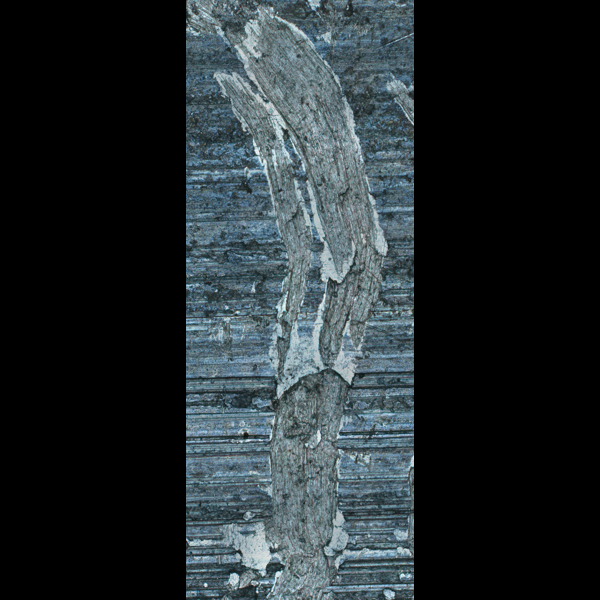d: (257, 96, 393, 339), (262, 299, 378, 489), (193, 4, 340, 144), (207, 490, 365, 600), (377, 524, 414, 599)
